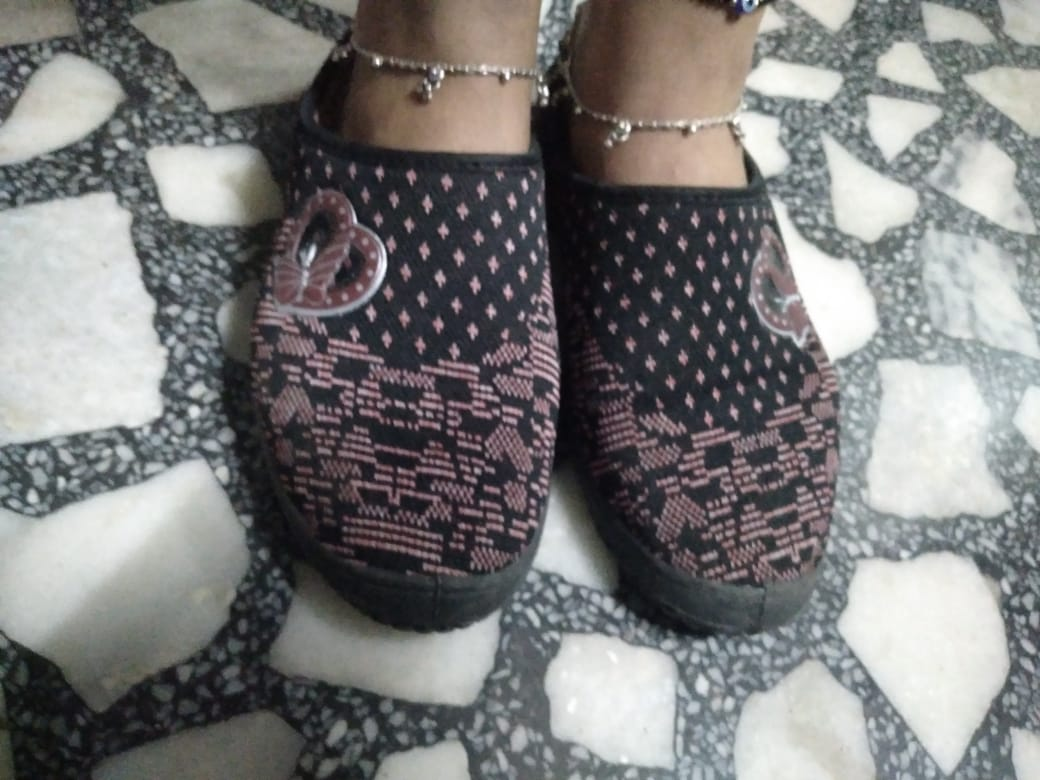Footwear: (245, 102, 857, 633), (240, 60, 574, 631), (560, 134, 840, 643)
